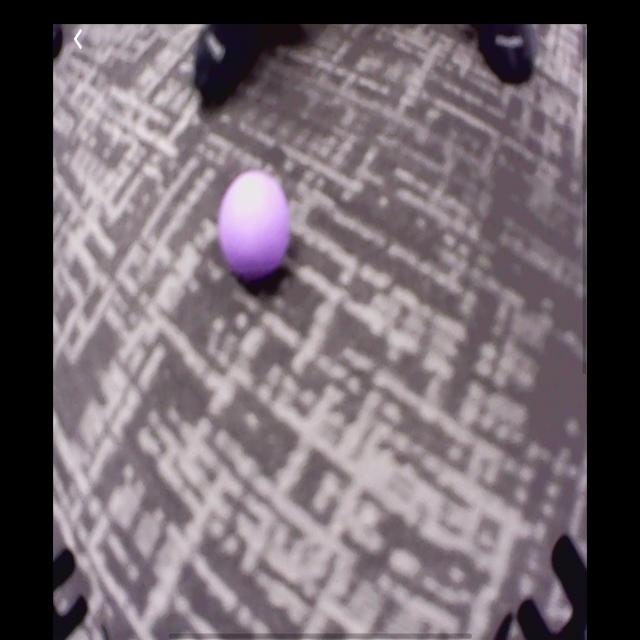ball: (218, 168, 290, 282)
